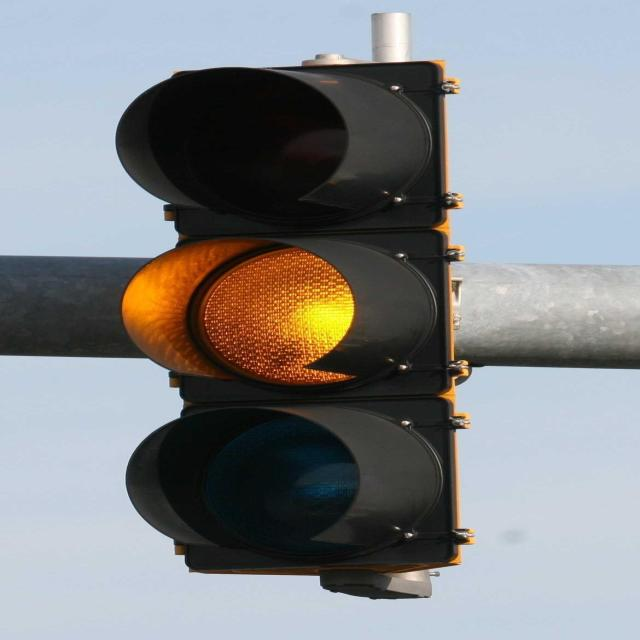Traffic Light -Yellow-: (91, 33, 474, 612)
